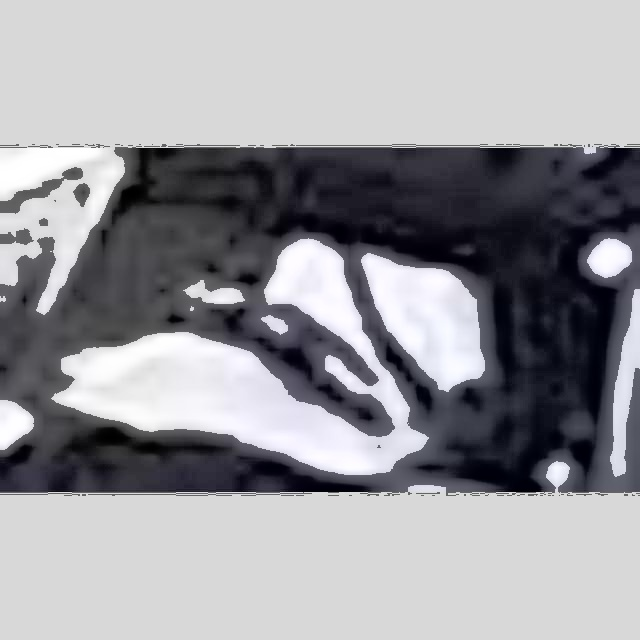pakai: (207, 217, 502, 434)
